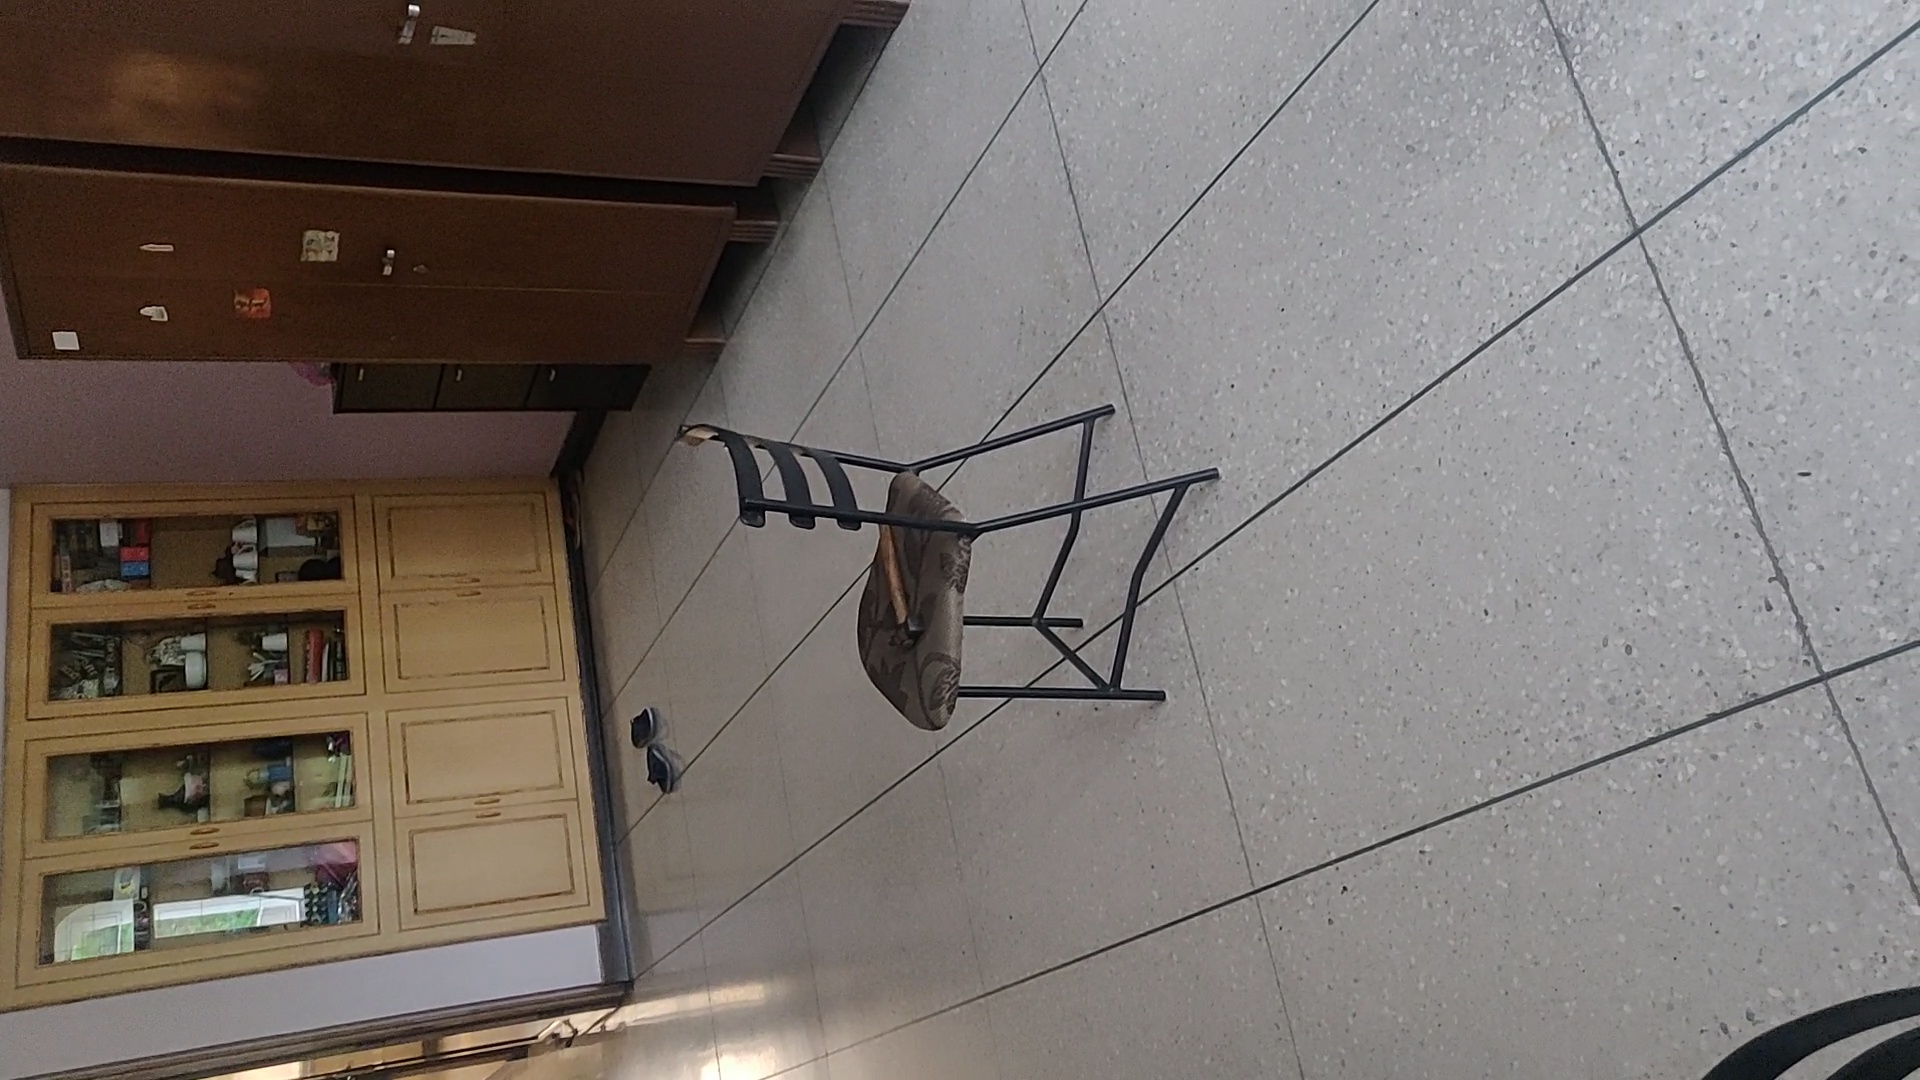hammer: (877, 520, 924, 651)
